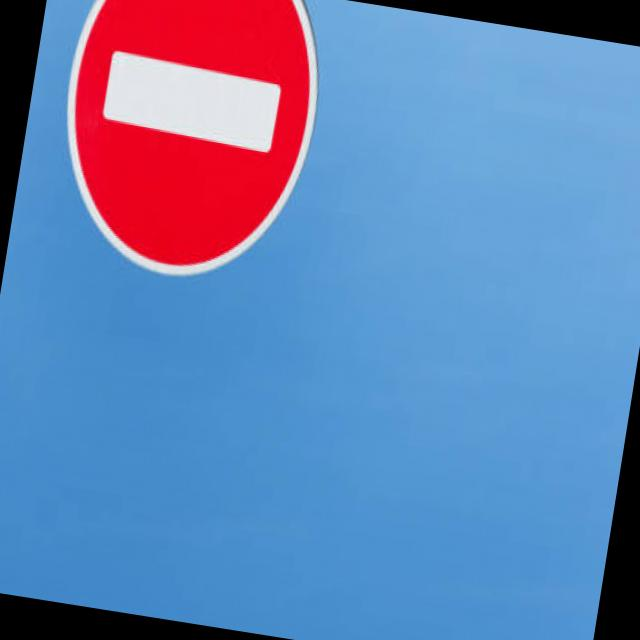do_not_enter: (31, 0, 340, 321)
